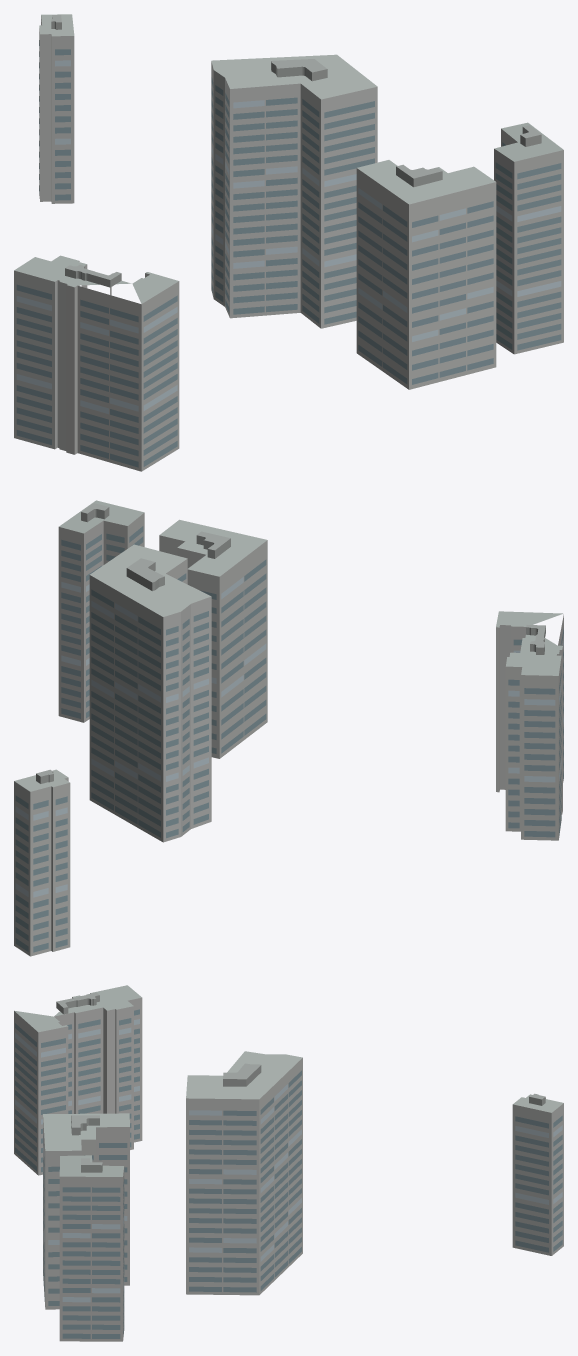
The model's file is apt-a10024082.glb.
The picture shows the model from 3 angles, top to bottom: view 1: azimuth 30°, elevation 25°; view 2: azimuth 150°, elevation 25°; view 3: azimuth 270°, elevation 25°; orthographic projection. The views are drawn at different scales.
Visible parts, largest first — view 1: apt-a10024082; view 2: apt-a10024082; view 3: apt-a10024082.
Part boxes in pixels (<box>): apt-a10024082: <box>14,14,563,471</box>; apt-a10024082: <box>14,500,563,956</box>; apt-a10024082: <box>14,985,563,1341</box>.
Size of the model in its own units: 146 by 65 by 159.
